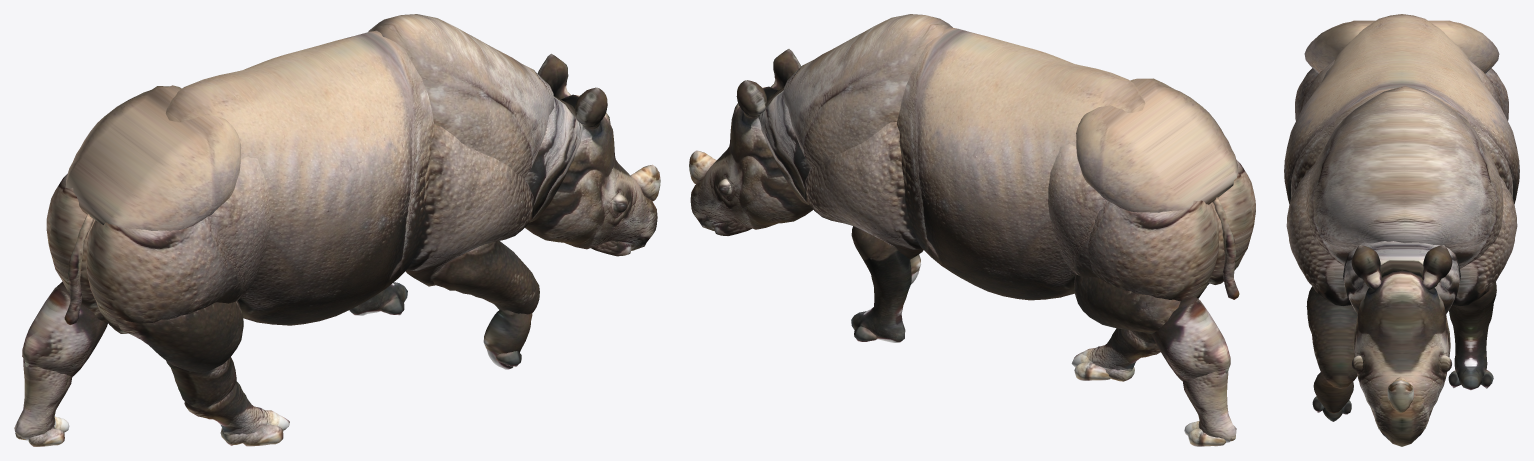
The model's file is rhino.gltf.
The picture shows the model from 3 angles, left to right: view 1: azimuth 30°, elevation 25°; view 2: azimuth 150°, elevation 25°; view 3: azimuth 270°, elevation 25°; orthographic projection. The views are drawn at different scales.
Parts seen in each view (by area): view 1: Node; view 2: Node; view 3: Node.
Boxes of the visible parts, x1,y1,x2,y2 form: Node: (14,14,660,446); Node: (689,14,1255,446); Node: (1284,14,1519,446).
Bounding box in the file's own units: 1.87 × 1.04 × 0.6844.
1 material, 1 textured.
